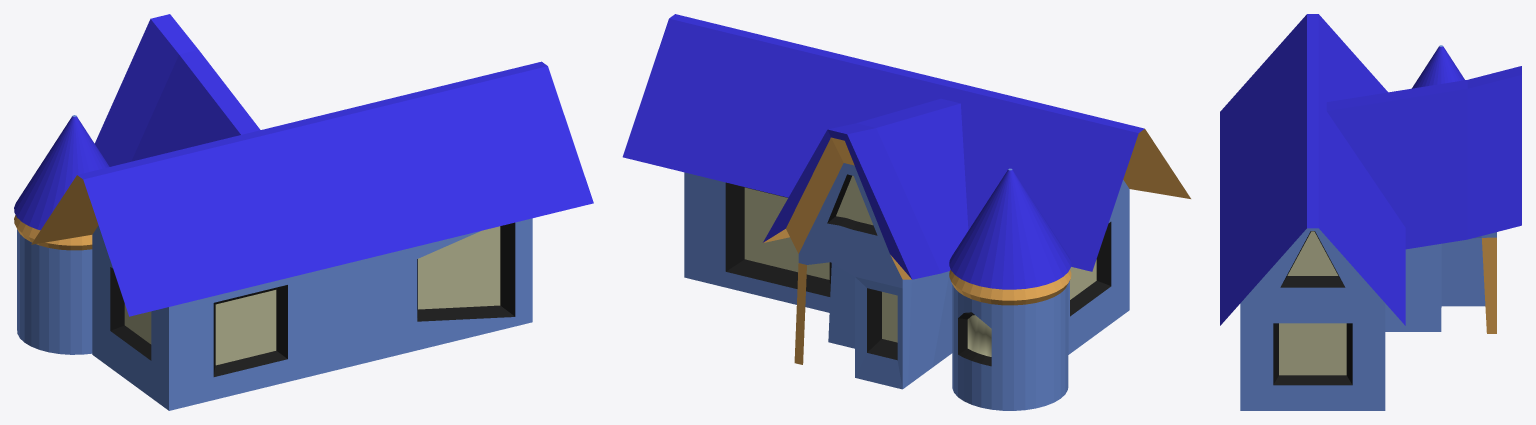
File: cabin.fbx
The picture shows the model from 3 angles, left to right: view 1: azimuth 30°, elevation 25°; view 2: azimuth 150°, elevation 25°; view 3: azimuth 270°, elevation 25°; orthographic projection. The views are drawn at different scales.
Visible parts, largest first — view 1: Cube; view 2: Cube; view 3: Cube.
Part boxes in pixels (x1,y1,x2,y2): Cube: [14, 14, 593, 410]; Cube: [622, 14, 1190, 410]; Cube: [1220, 14, 1521, 410].
Size of the model in its own units: 4688 by 2427 by 2789.
